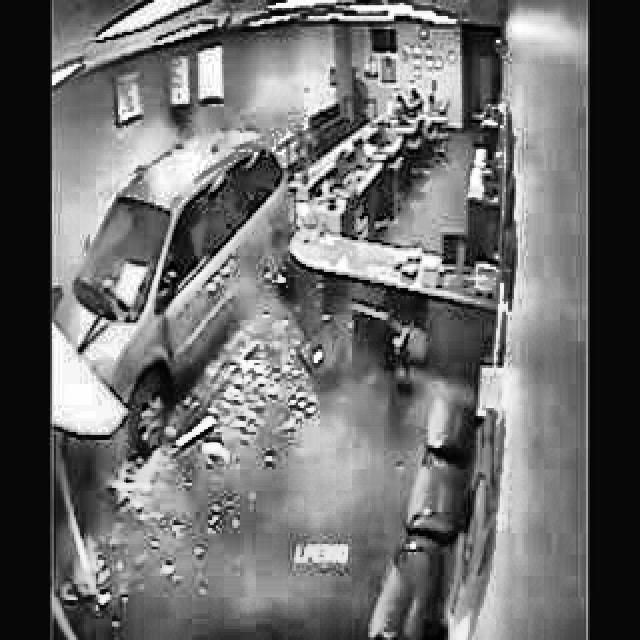burglary: (56, 104, 326, 481)
